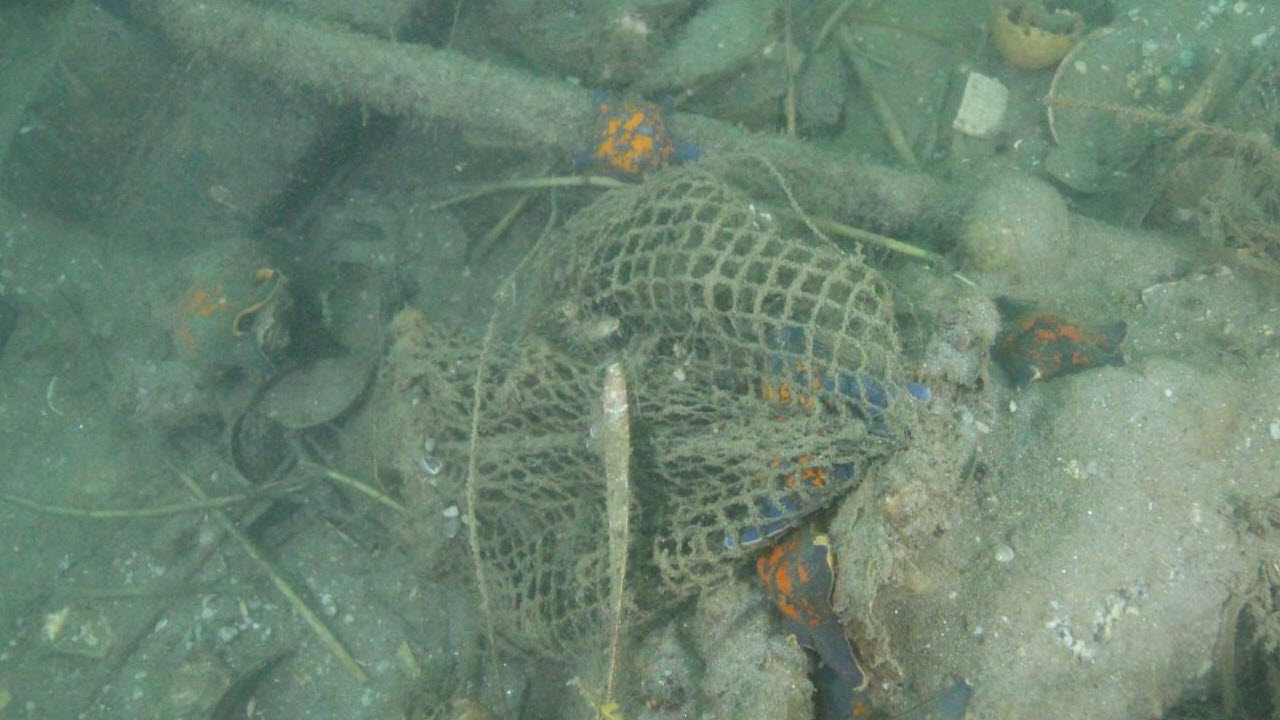fish net: (410, 164, 907, 658)
